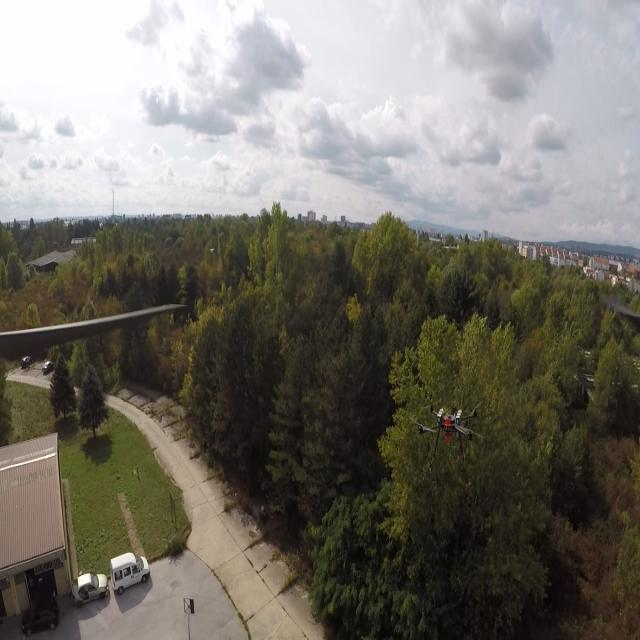UAV: (414, 393, 484, 471)
